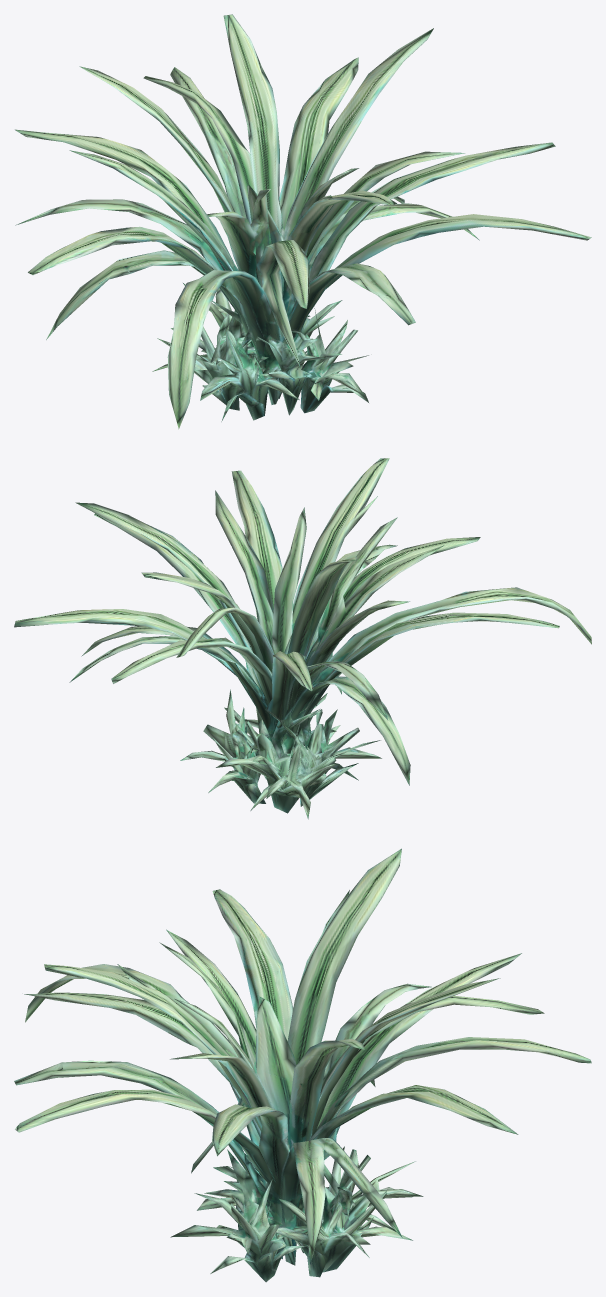
3 renders of one model, top to bottom at view 1: azimuth 30°, elevation 25°; view 2: azimuth 150°, elevation 25°; view 3: azimuth 270°, elevation 25°, orthographic. The views are drawn at different scales.
Parts seen in each view (by area): view 1: Mesh_0; view 2: Mesh_0; view 3: Mesh_0.
Part boxes in pixels (bbox=[...]): Mesh_0: bbox=[15, 14, 591, 429]; Mesh_0: bbox=[14, 458, 591, 819]; Mesh_0: bbox=[14, 848, 591, 1282].
Size of the model in its own units: 1.91 by 1.17 by 1.76.
1 material, 1 textured.
